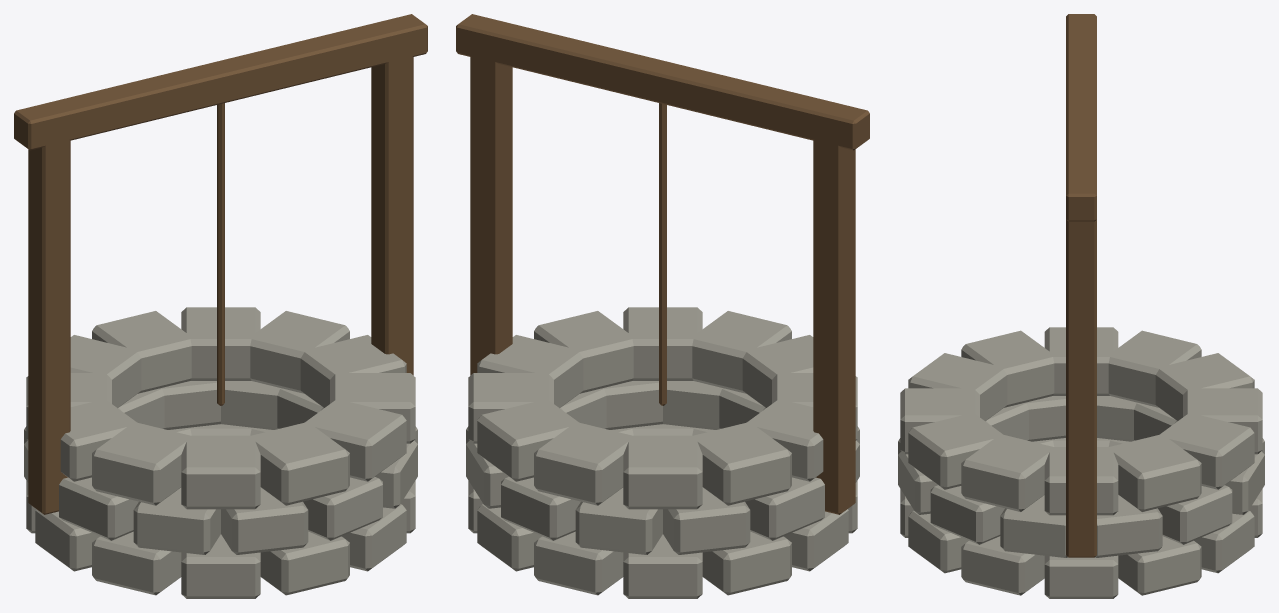
File: SM_Villa_Pozo.fbx
The picture shows the model from 3 angles, left to right: view 1: azimuth 30°, elevation 25°; view 2: azimuth 150°, elevation 25°; view 3: azimuth 270°, elevation 25°; orthographic projection. The views are drawn at different scales.
Visible parts, largest first — view 1: SM_Villa_Pozo; view 2: SM_Villa_Pozo; view 3: SM_Villa_Pozo.
Boxes of the visible parts, x1,y1,x2,y2 form: SM_Villa_Pozo: (14,14,427,598); SM_Villa_Pozo: (456,14,869,598); SM_Villa_Pozo: (898,14,1264,598).
Size of the model in its own units: 70 by 75.5 by 59.68.
